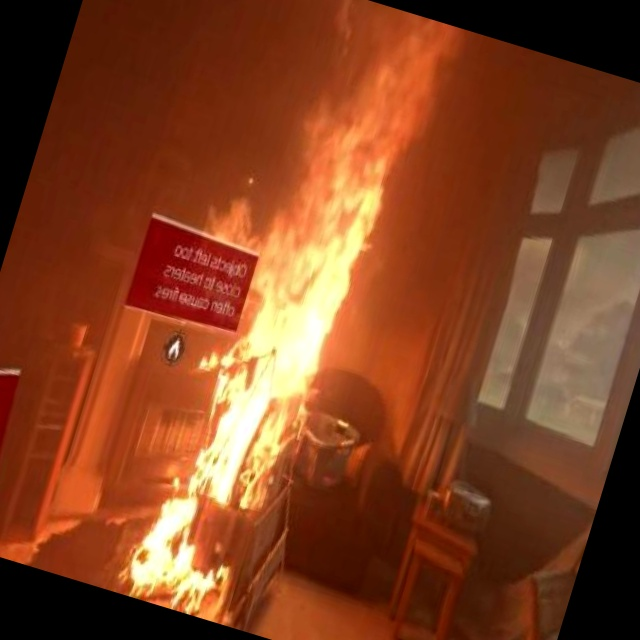fire: (181, 0, 471, 470)
